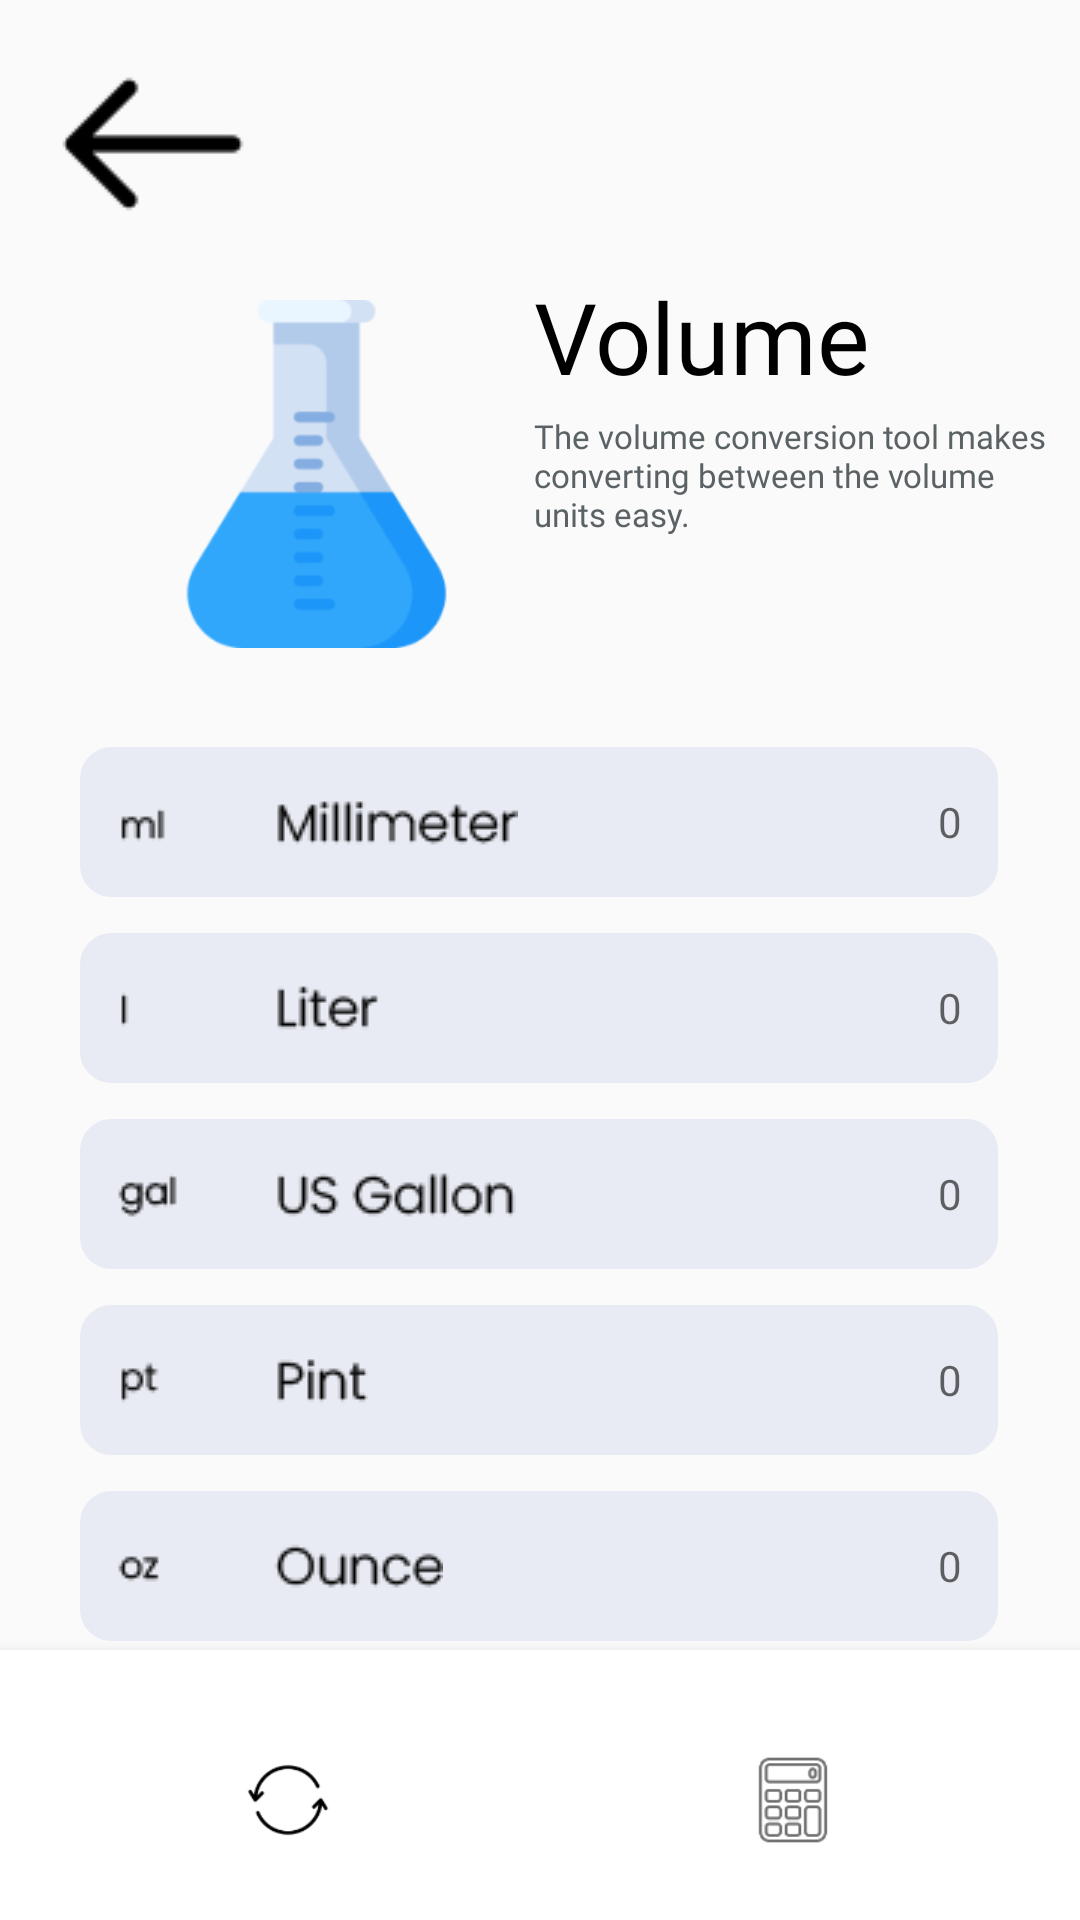

Screen size 1080px x 1920px. Icon name, then its box in pixels as bbox=[x1, y1, x2, y2]:
arrow: bbox=[63, 78, 243, 210]
